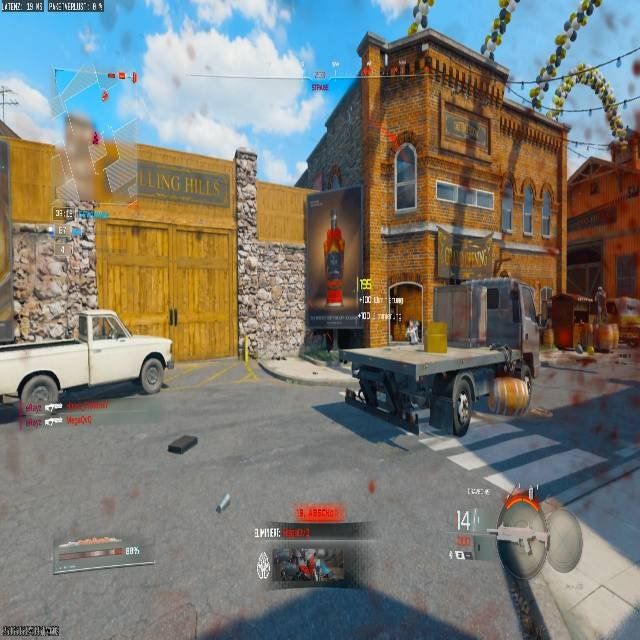player: (406, 320, 421, 344)
